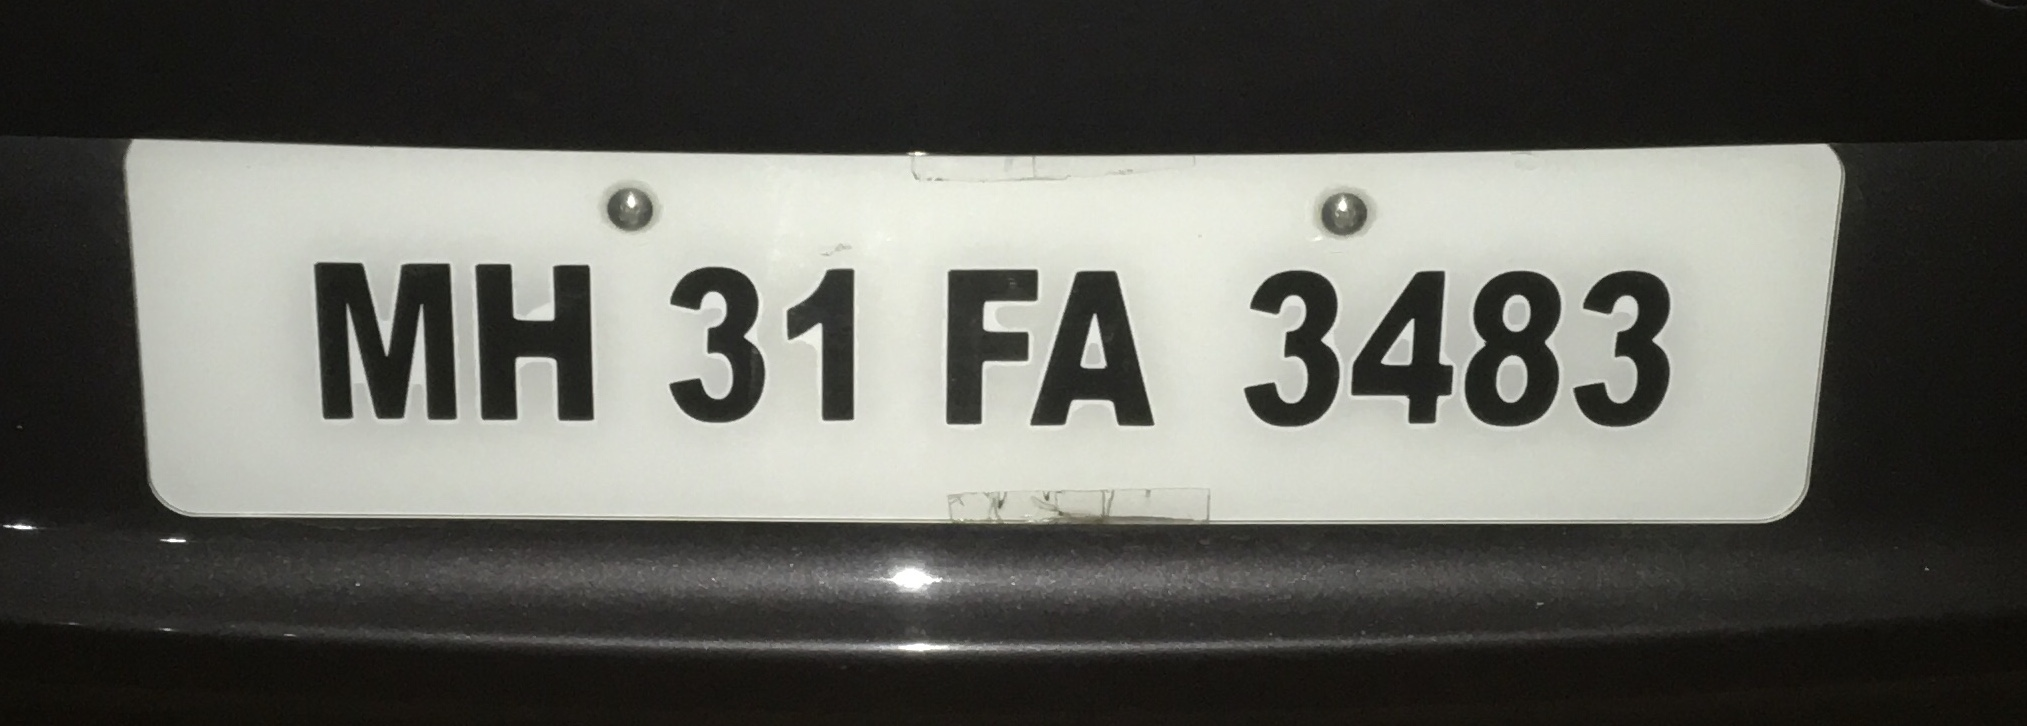numberplate: (113, 137, 1853, 537)
